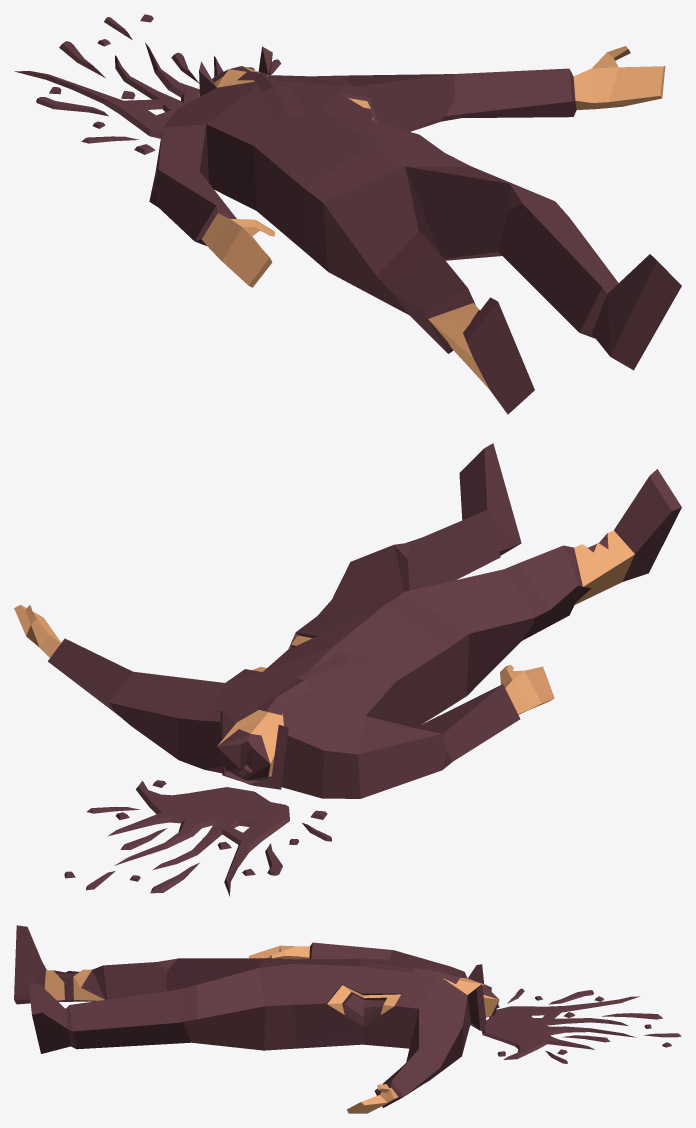
The model's file is man-tie-dead-a.fbx.
The picture shows the model from 3 angles, top to bottom: view 1: azimuth 30°, elevation 25°; view 2: azimuth 150°, elevation 25°; view 3: azimuth 270°, elevation 25°; orthographic projection. The views are drawn at different scales.
Parts seen in each view (by area): view 1: man-tie-dead-a; view 2: man-tie-dead-a; view 3: man-tie-dead-a.
Part boxes in pixels (x1,y1,x2,y2): man-tie-dead-a: (14, 14, 681, 414); man-tie-dead-a: (14, 443, 681, 896); man-tie-dead-a: (14, 925, 681, 1113).
Size of the model in its own units: 1.24 by 0.281 by 2.14.
